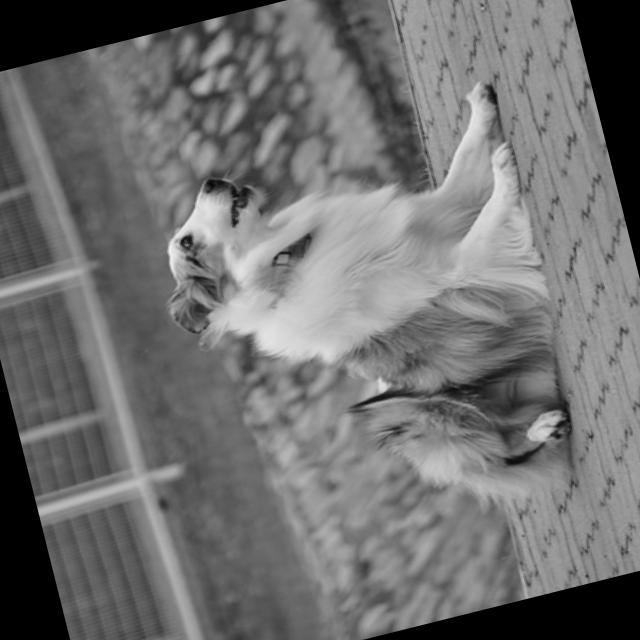laying down: (128, 72, 602, 570)
